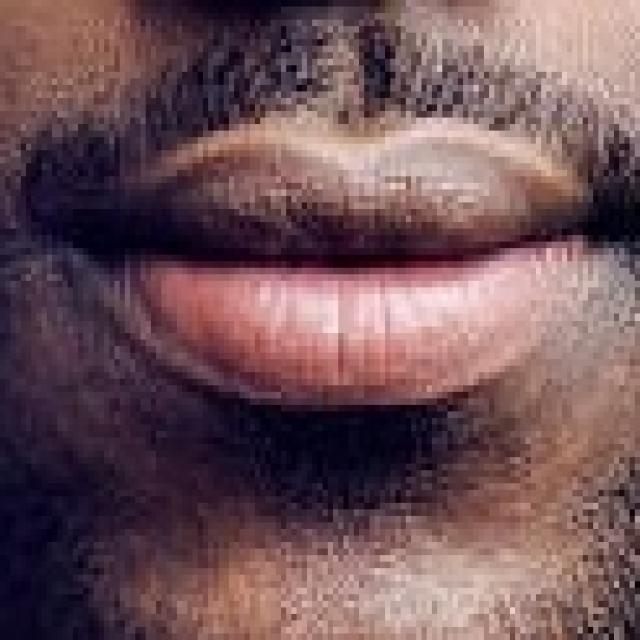closed-mouth: (28, 100, 635, 412)
